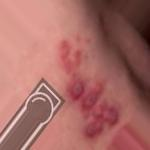Ants: (79, 78, 105, 110), (58, 39, 80, 73), (80, 114, 107, 140), (93, 103, 120, 126), (116, 127, 144, 149), (63, 76, 87, 100)
